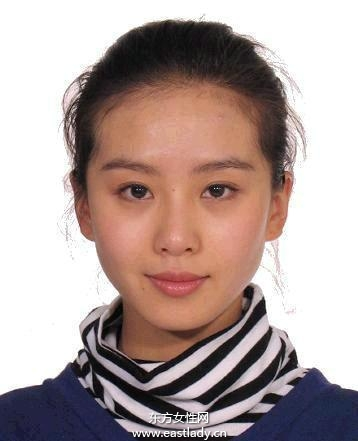unmask: (94, 103, 264, 318)
